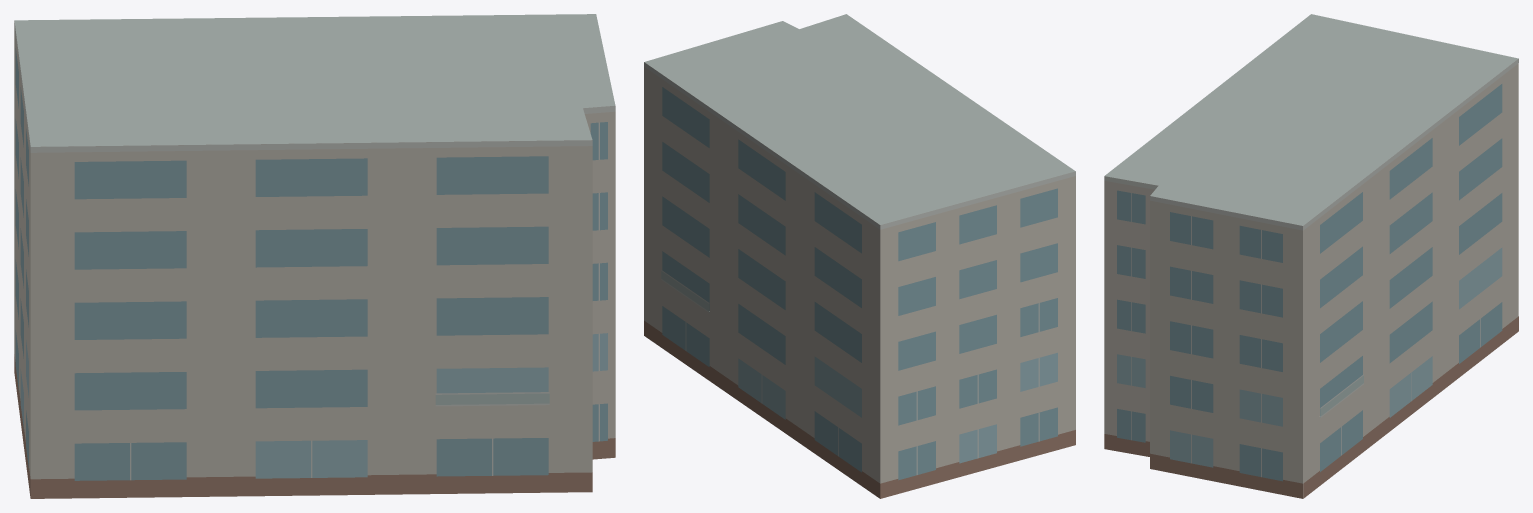
Rendered from survey-upis-32673573.glb.
3 renders of one model, left to right at view 1: azimuth 30°, elevation 25°; view 2: azimuth 150°, elevation 25°; view 3: azimuth 270°, elevation 25°, orthographic. The views are drawn at different scales.
Parts seen in each view (by area): view 1: survey-upis-32673573.tmp; view 2: survey-upis-32673573.tmp; view 3: survey-upis-32673573.tmp.
Part boxes in pixels (<box>): survey-upis-32673573.tmp: <box>14,14,615,498</box>; survey-upis-32673573.tmp: <box>644,14,1075,498</box>; survey-upis-32673573.tmp: <box>1104,14,1518,498</box>.
Bounding box in the file's own units: 23.9 × 14.34 × 19.75.
